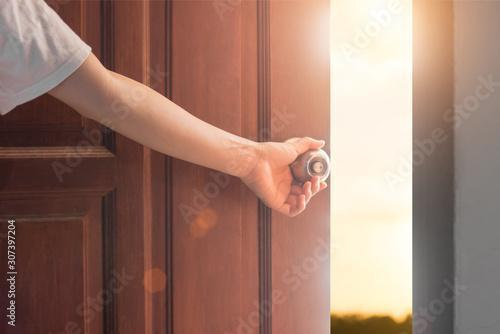doorhandle: (281, 135, 349, 196)
